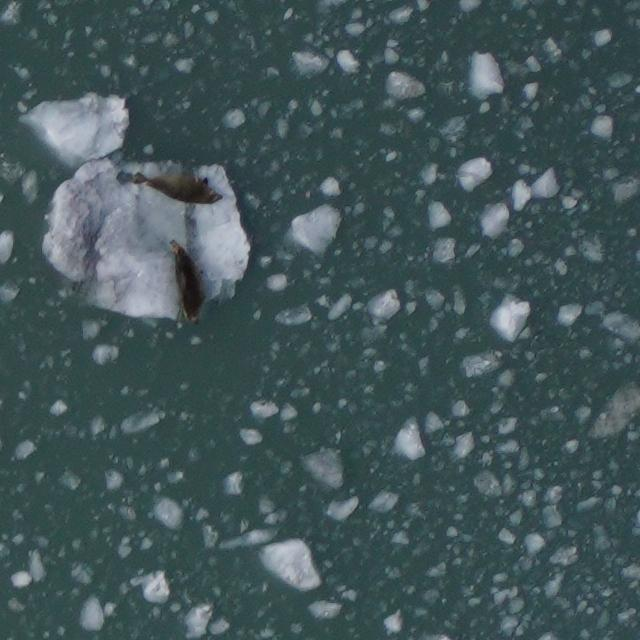seal: (126, 168, 228, 207), (167, 238, 210, 327)
